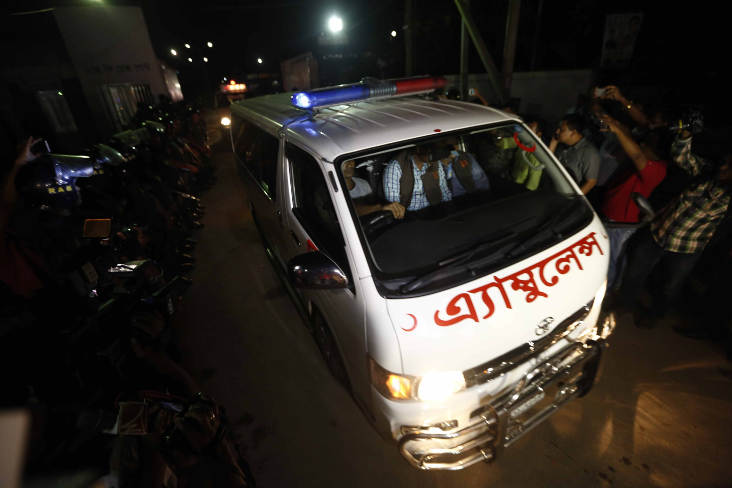ambulance: (236, 77, 618, 476)
